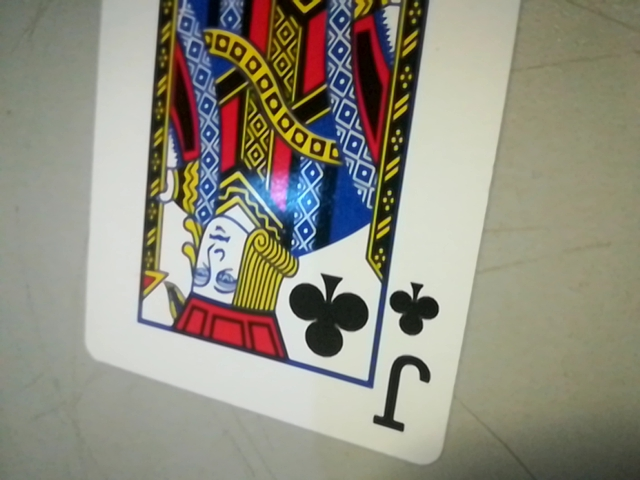mh j: (373, 273, 451, 437)
